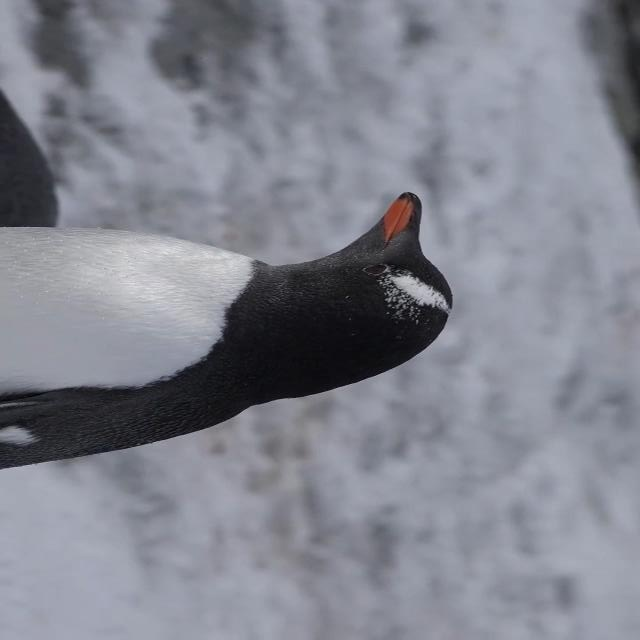penguin: (1, 193, 453, 471)
